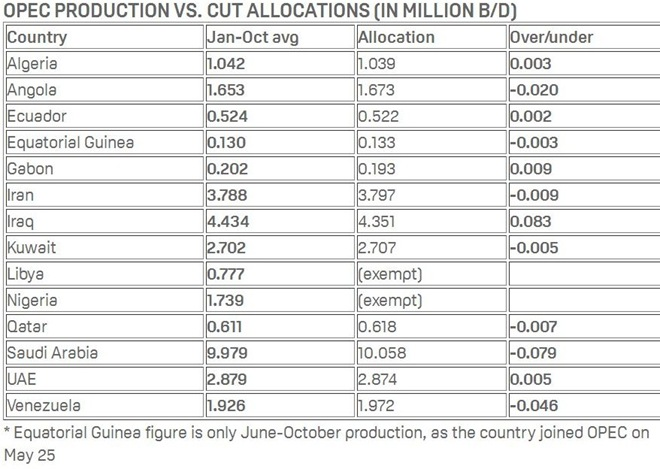fracking table: (3, 1, 660, 420)
